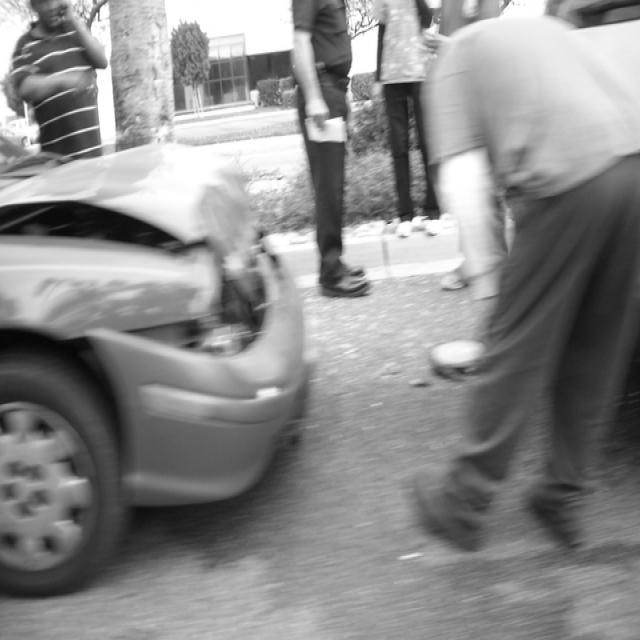crush: (0, 143, 305, 503)
